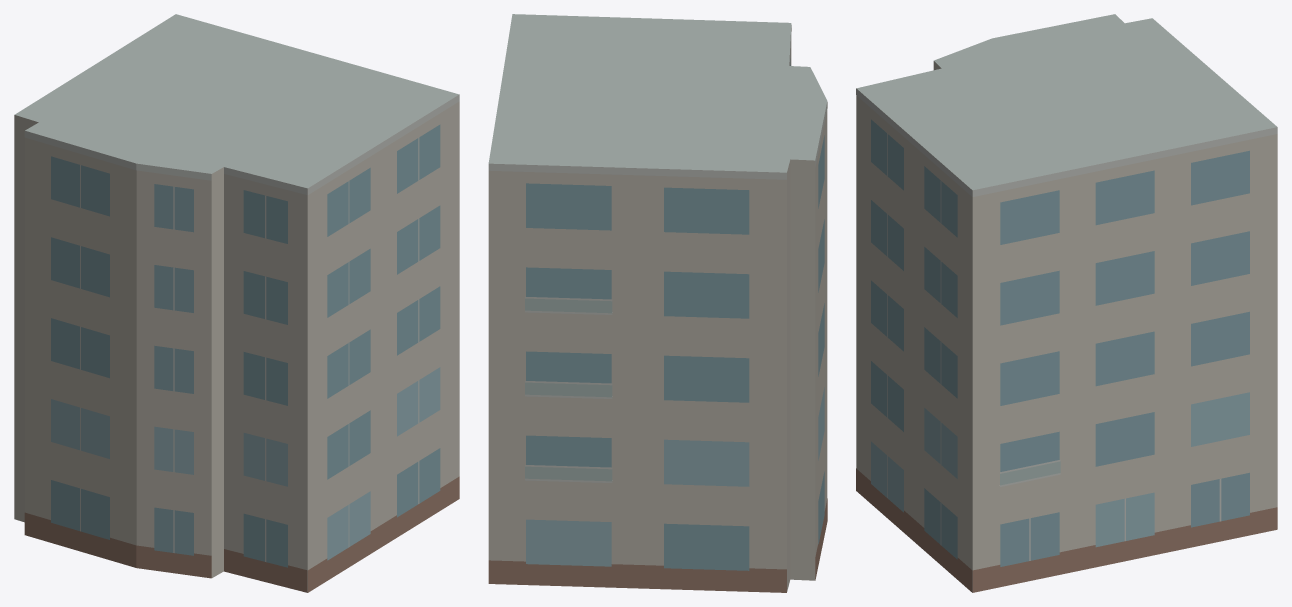
Rendered from survey-upis-32841842.glb.
3 renders of one model, left to right at view 1: azimuth 30°, elevation 25°; view 2: azimuth 150°, elevation 25°; view 3: azimuth 270°, elevation 25°, orthographic. The views are drawn at different scales.
Visible parts, largest first — view 1: survey-upis-32841842.tmp; view 2: survey-upis-32841842.tmp; view 3: survey-upis-32841842.tmp.
Part boxes in pixels (box(x1,y1,x2,y2)): survey-upis-32841842.tmp: box(14, 14, 459, 592); survey-upis-32841842.tmp: box(488, 14, 827, 592); survey-upis-32841842.tmp: box(856, 14, 1277, 592).
Size of the model in its own units: 13.54 by 14.4 by 13.67.
